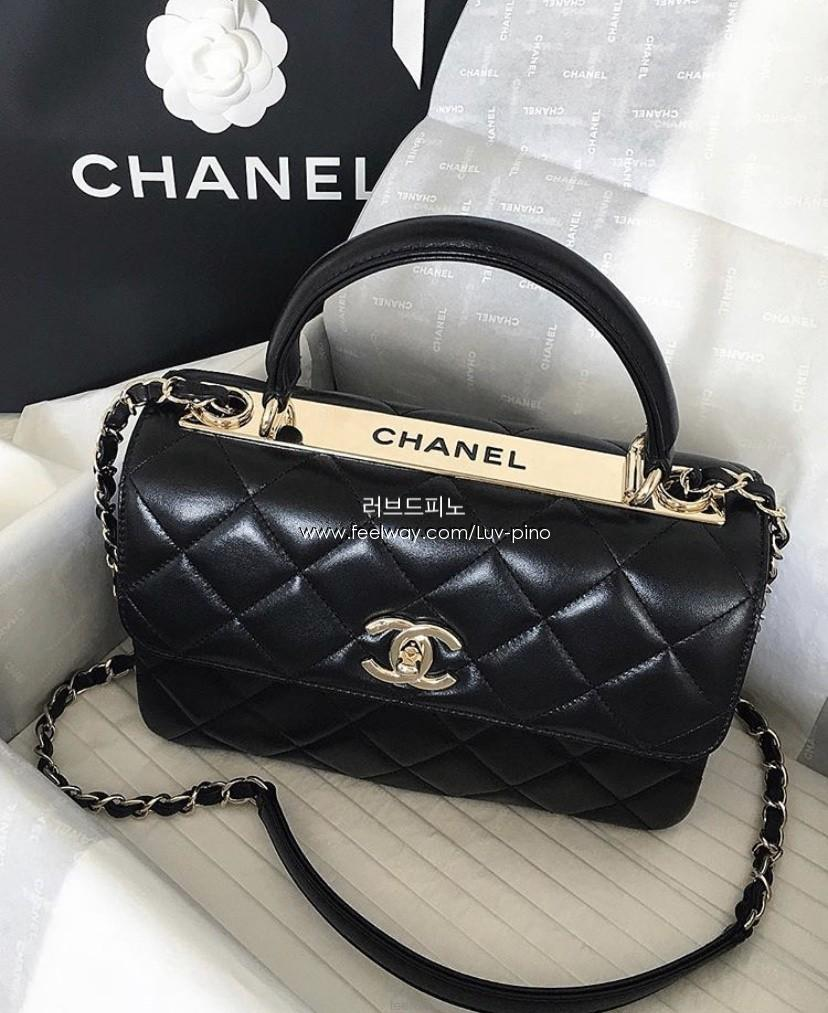channel: (86, 348, 764, 842), (332, 593, 496, 710), (349, 415, 553, 499)
